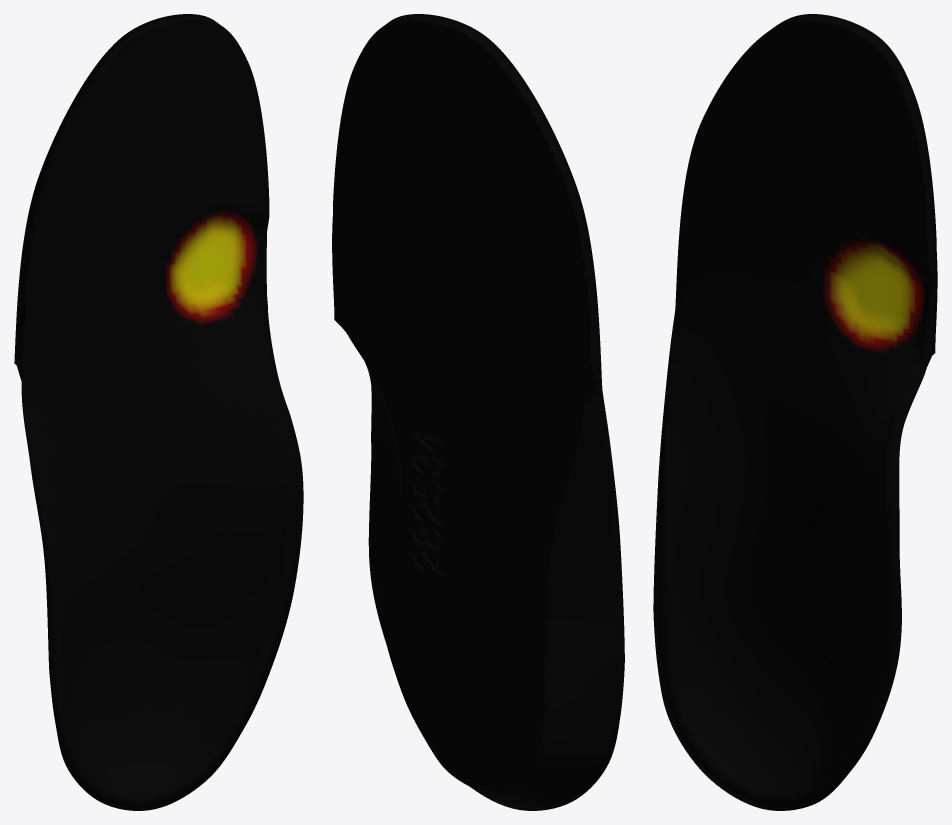
The model's file is PAIR-OFFLOAD-1ST_LEFT.glb.
The picture shows the model from 3 angles, left to right: view 1: azimuth 30°, elevation 25°; view 2: azimuth 150°, elevation 25°; view 3: azimuth 330°, elevation 25°; orthographic projection. The views are drawn at different scales.
Parts seen in each view (by area): view 1: world; view 2: world; view 3: world.
Boxes of the visible parts, bbox=[...] form: world: bbox=[14, 14, 303, 810]; world: bbox=[332, 14, 624, 810]; world: bbox=[653, 14, 937, 810].
Size of the model in its own units: 91.08 by 261 by 24.42.
